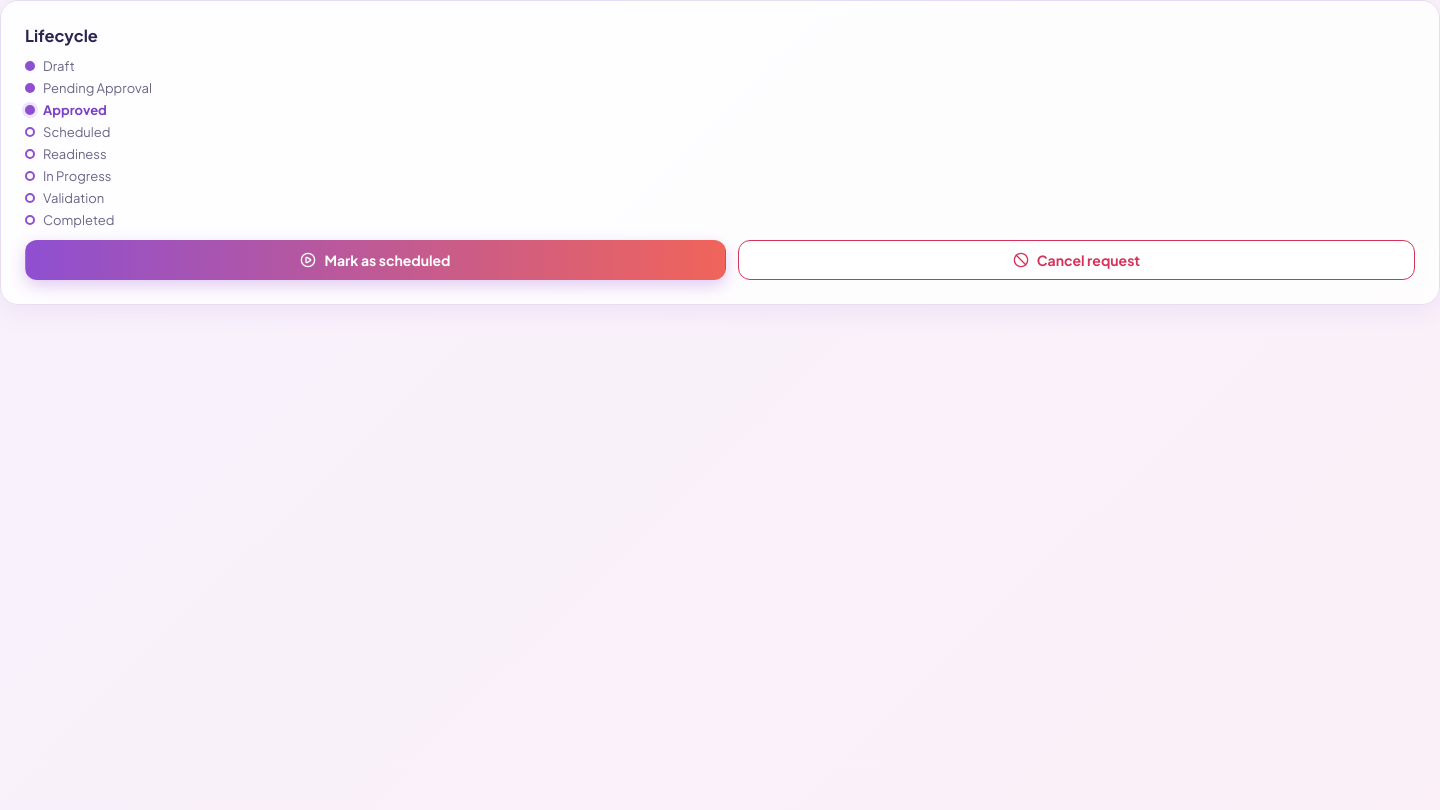
Test: LifecycleCard › cancel needs a reason, then calls the API with the version
Later steps or results of the test are not shown.
Step 1. Click the button "Cancel request" → (1076, 260), box [738,240,1415,280]
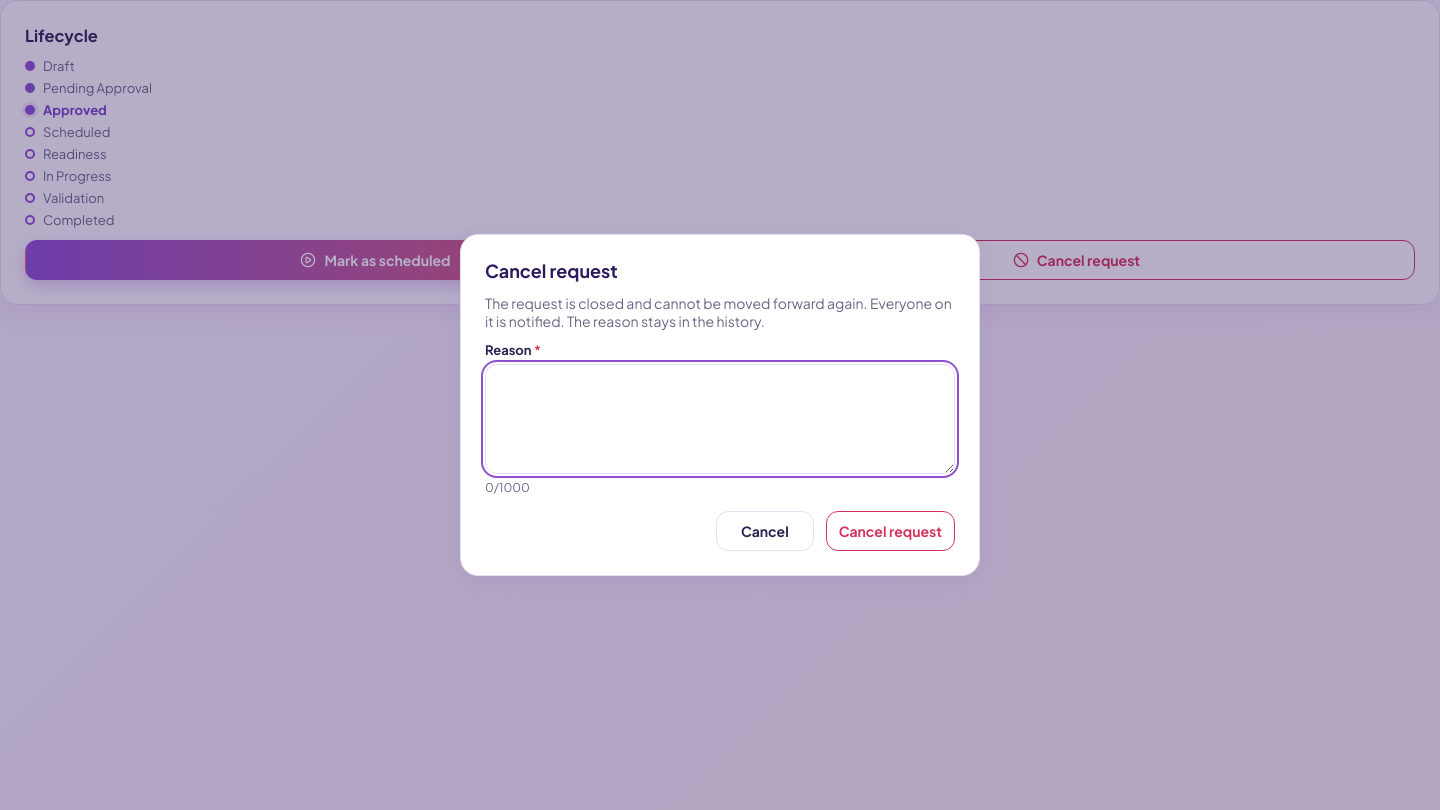
Step 2. Click the submit button → (890, 531), box [826,511,955,551]
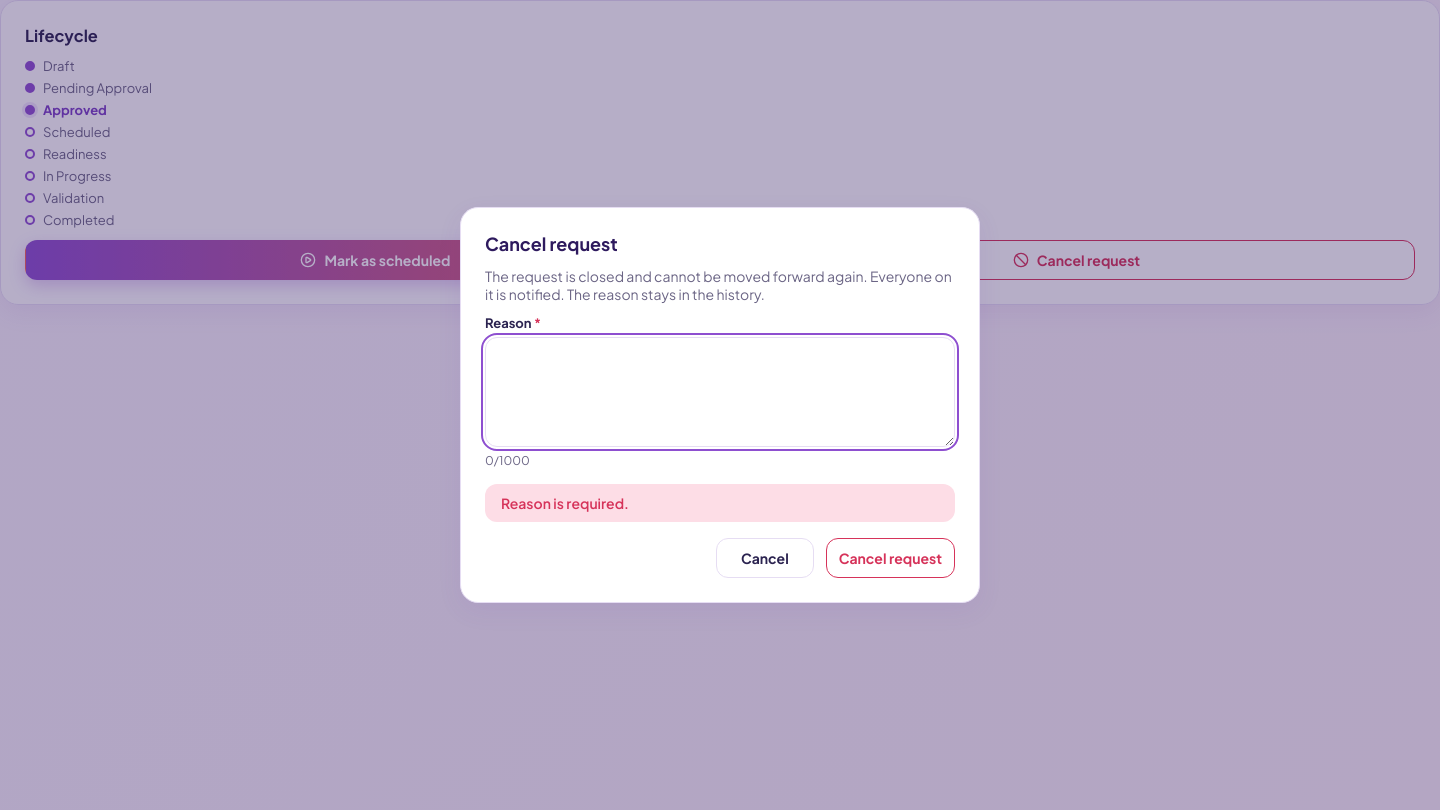
Now the message shows "Reason is required", box [501,494,629,512]
